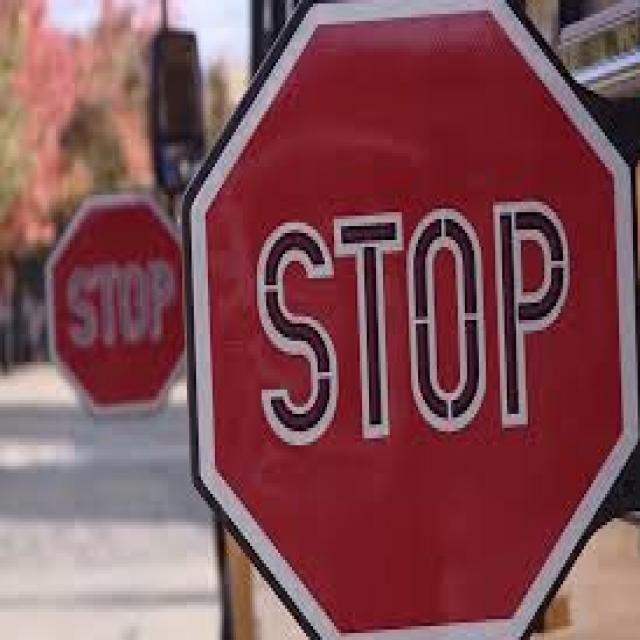stop-sign: (210, 10, 574, 640), (19, 186, 182, 426)
